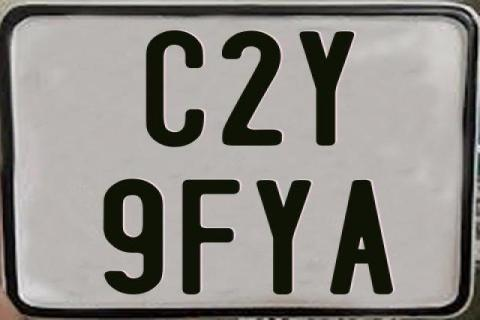0: (222, 28, 288, 146), (101, 177, 161, 297)
A: (330, 178, 398, 296)
C: (143, 28, 205, 147)
F: (180, 179, 238, 297)
Y: (298, 31, 356, 148), (256, 179, 312, 299)
